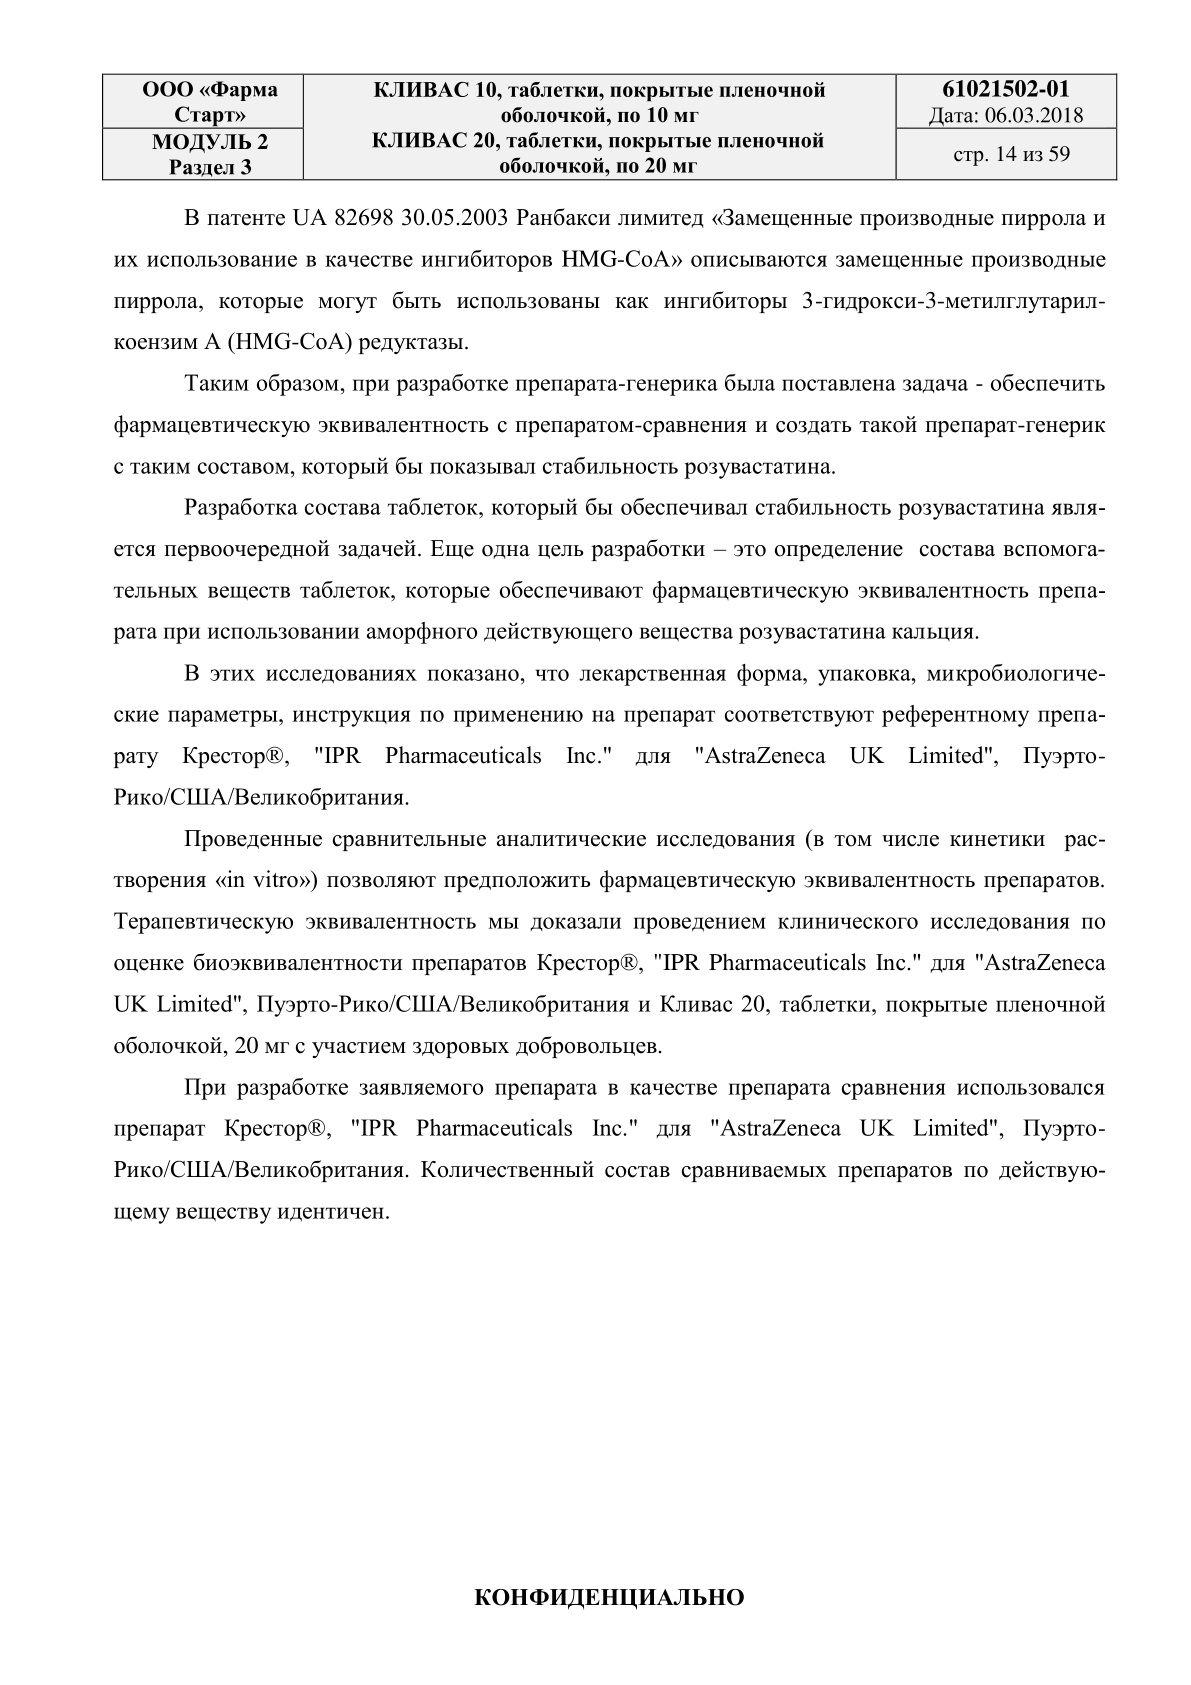merged_cells: (101, 72, 1119, 182)
